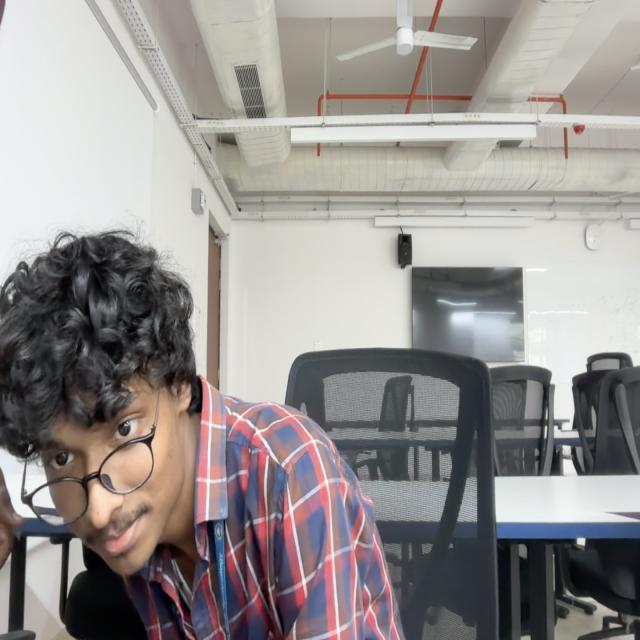darshan: (5, 219, 199, 576)
